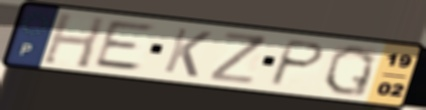E: (90, 20, 160, 73)
H: (39, 11, 109, 70)
K: (160, 26, 215, 80)
P: (265, 38, 328, 88)
Q: (320, 43, 379, 99)
Z: (207, 30, 270, 87)
